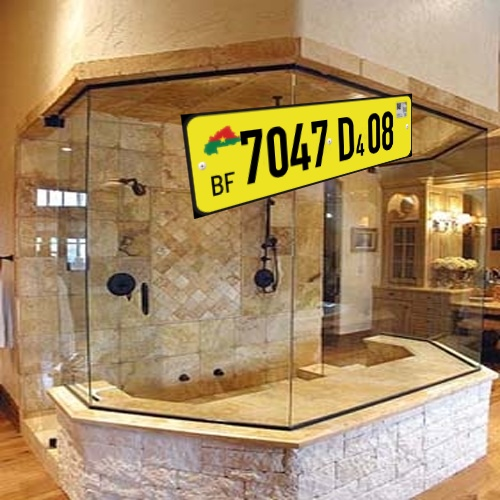plate: (169, 79, 427, 227)
